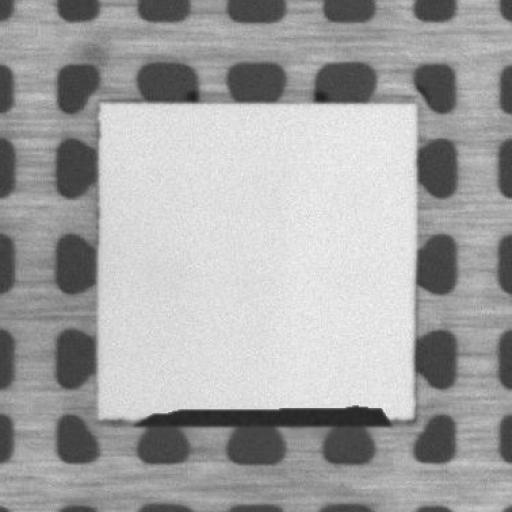DIE_BROKEN: (141, 402, 398, 427)
